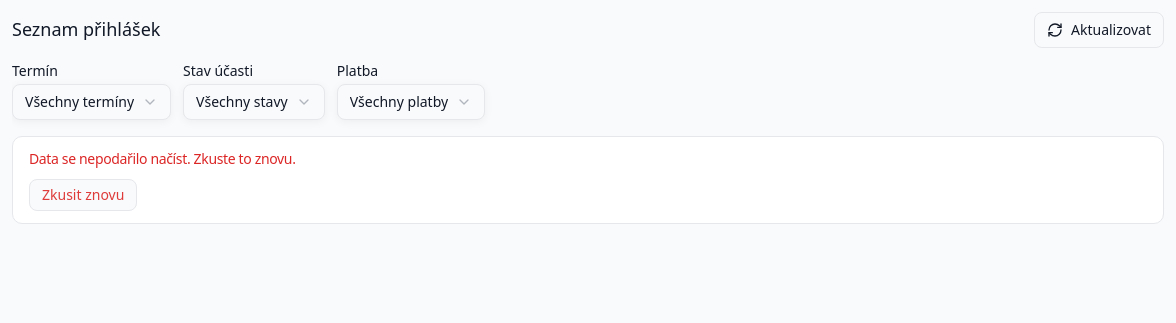
Scenario: RegistrationsSection › never shows a failed first load as an empty list, and retries it
Expected: the text "Data se nepodařilo načíst. Zkuste to znovu." is shown, 29,149 -> 296,168
Click the button "Zkusit znovu".
click(83, 195)  # box 29,179 -> 137,211
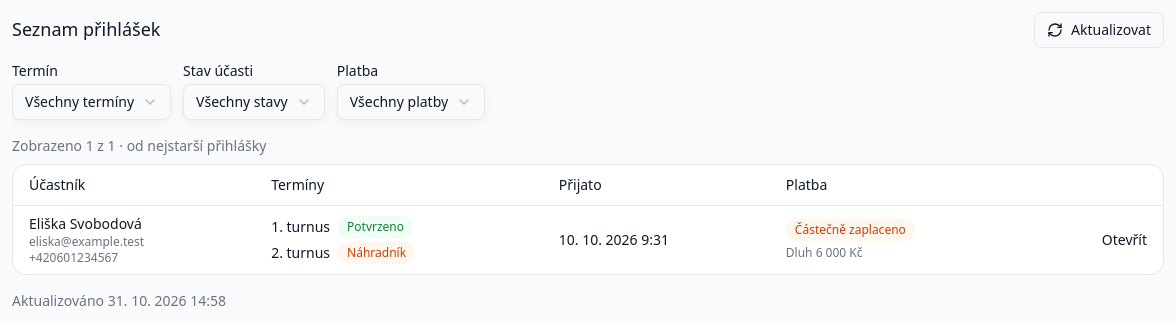
Expected: the link "Eliška Svobodová" is shown, 29,214 -> 142,232
